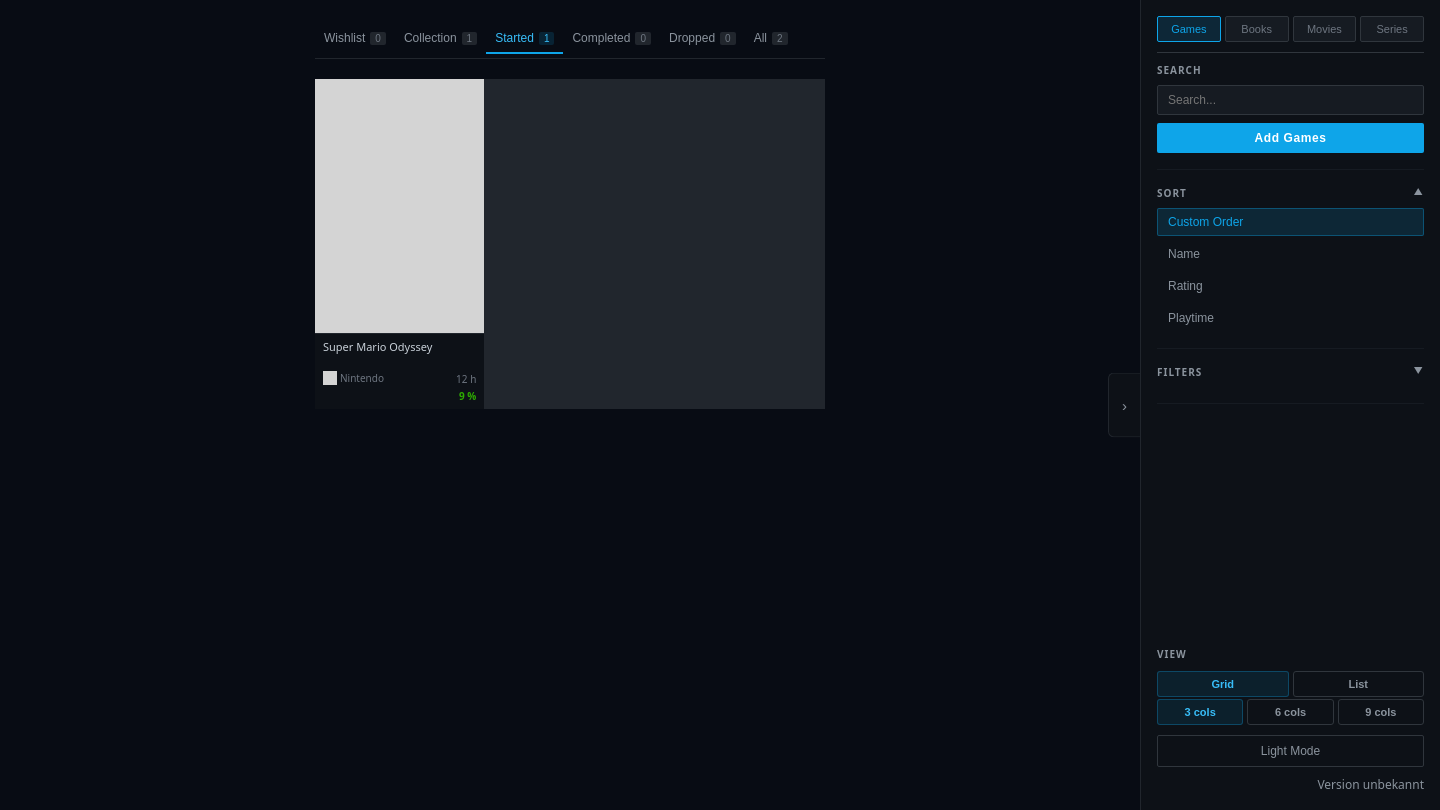
App – Media Switcher › wechselt zu SeriesList
Click the button "Series". click: (1392, 29)
box: [1360,16,1424,42]
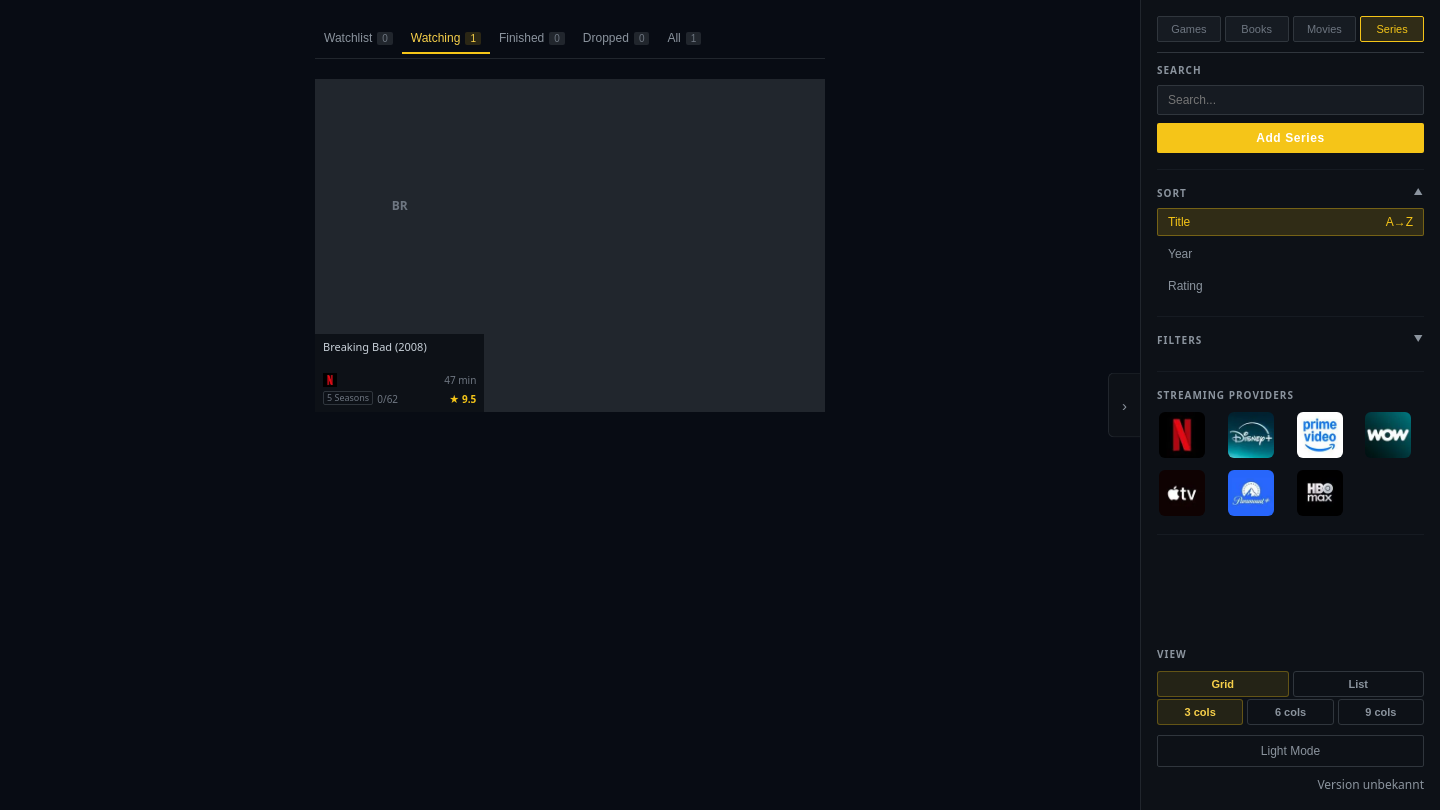
Expected: the text "Watching" is shown, [402,24,490,54]
Expected: the text "Breaking Bad" is shown, [323,339,392,354]
